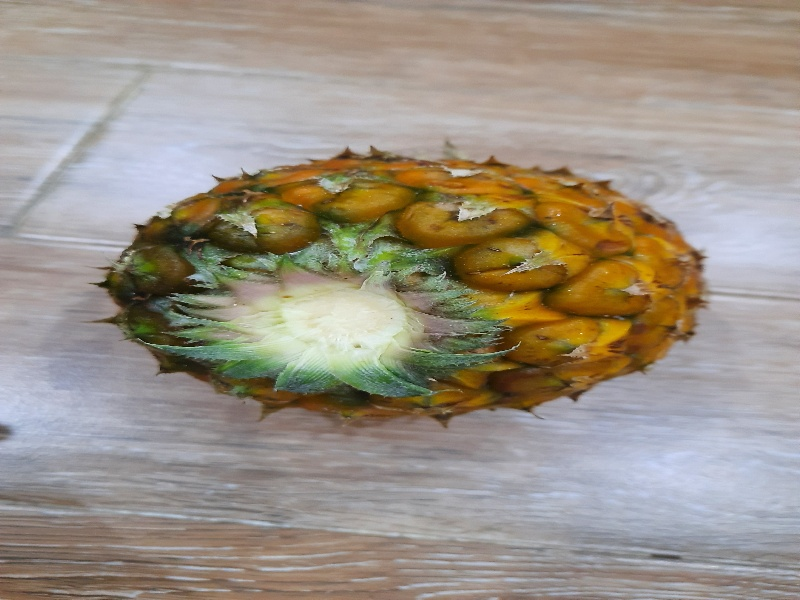fruit: (101, 149, 715, 432)
